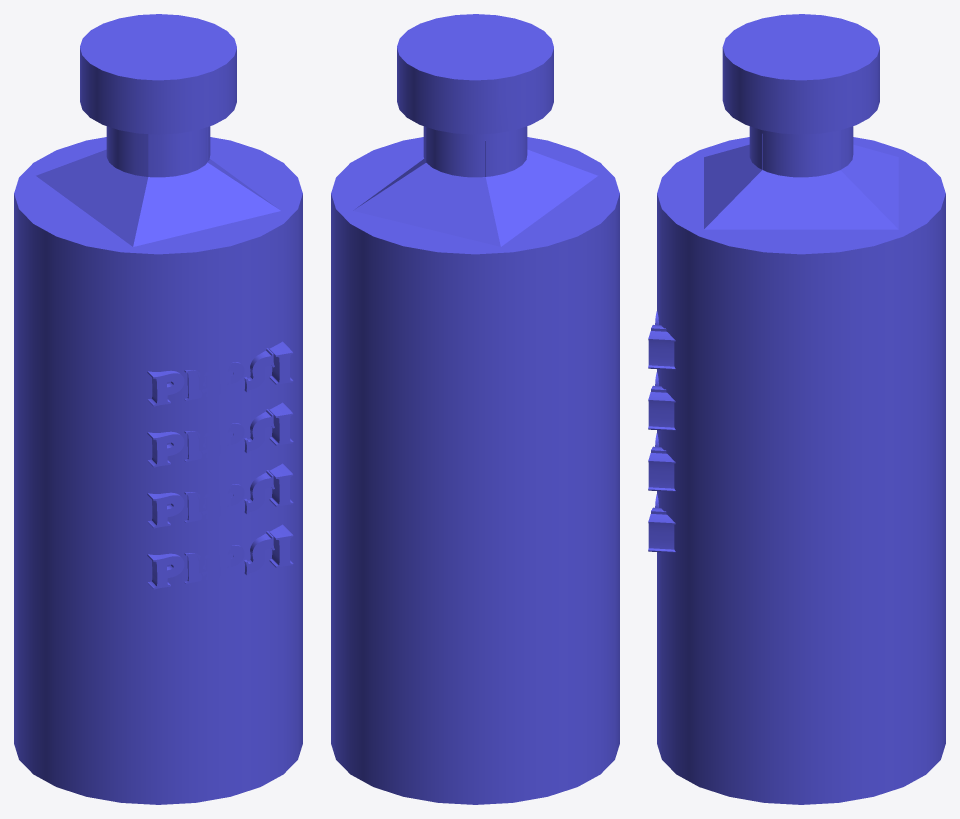
3 renders of one model, left to right at view 1: azimuth 30°, elevation 25°; view 2: azimuth 150°, elevation 25°; view 3: azimuth 270°, elevation 25°, orthographic.
Parts seen in each view (by area): view 1: mesh49_mesh49-geometry, mesh16_mesh16-geometry, mesh1_mesh1-geometry, mesh6_mesh6-geometry, mesh11_mesh11-geometry, mesh5_mesh5-geometry, mesh10_mesh10-geometry, mesh15_mesh15-geometry, mesh20_mesh20-geometry, mesh4_mesh4-geometry, mesh14_mesh14-geometry, mesh19_mesh19-geometry (+1 smaller); view 2: mesh49_mesh49-geometry; view 3: mesh49_mesh49-geometry, mesh5_mesh5-geometry, mesh10_mesh10-geometry, mesh15_mesh15-geometry, mesh20_mesh20-geometry.
Boxes of the visible parts, box(x1,y1,x2,y2) form: mesh49_mesh49-geometry: box(14, 14, 302, 804); mesh16_mesh16-geometry: box(147, 553, 184, 589); mesh1_mesh1-geometry: box(147, 370, 184, 406); mesh6_mesh6-geometry: box(147, 431, 184, 467); mesh11_mesh11-geometry: box(147, 492, 184, 528); mesh5_mesh5-geometry: box(269, 341, 293, 385); mesh10_mesh10-geometry: box(269, 402, 293, 445); mesh15_mesh15-geometry: box(269, 463, 293, 506); mesh20_mesh20-geometry: box(269, 524, 293, 567); mesh4_mesh4-geometry: box(244, 348, 274, 392); mesh14_mesh14-geometry: box(244, 470, 274, 514); mesh19_mesh19-geometry: box(244, 531, 274, 575); mesh49_mesh49-geometry: box(331, 14, 619, 804); mesh49_mesh49-geometry: box(657, 14, 945, 804); mesh5_mesh5-geometry: box(648, 331, 675, 370); mesh10_mesh10-geometry: box(648, 392, 675, 431); mesh15_mesh15-geometry: box(648, 453, 675, 491); mesh20_mesh20-geometry: box(648, 514, 675, 552).
Bounding box in the file's own units: 0.3265 × 0.8691 × 0.3365.
